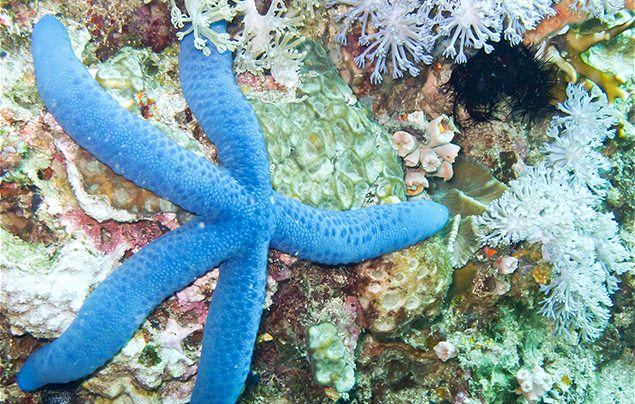starfish: (14, 21, 450, 396)
